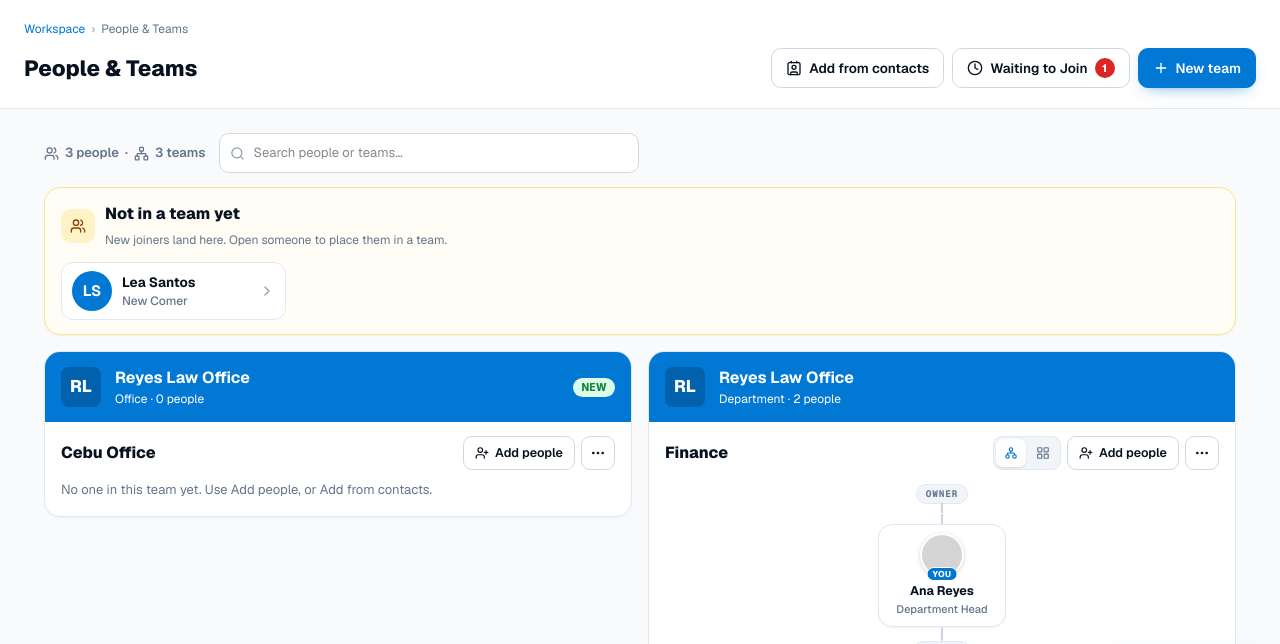
Test case: deleting a team, and the panels beside the title › puts Add from contacts, Waiting to Join and New team beside the title, Waiting opening its own panel
Click the button with test id "open-waiting" at (1041, 68), box [952,48,1130,88]
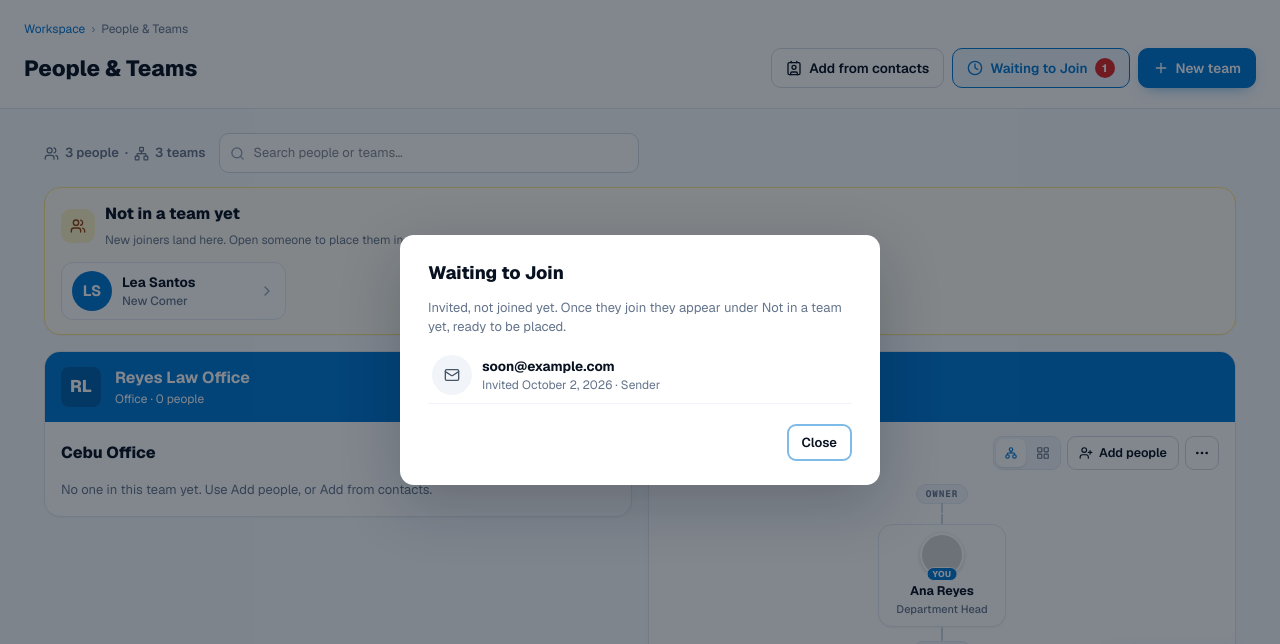
Expected: the text "soon@example.com" is shown, [482,357,615,375]
